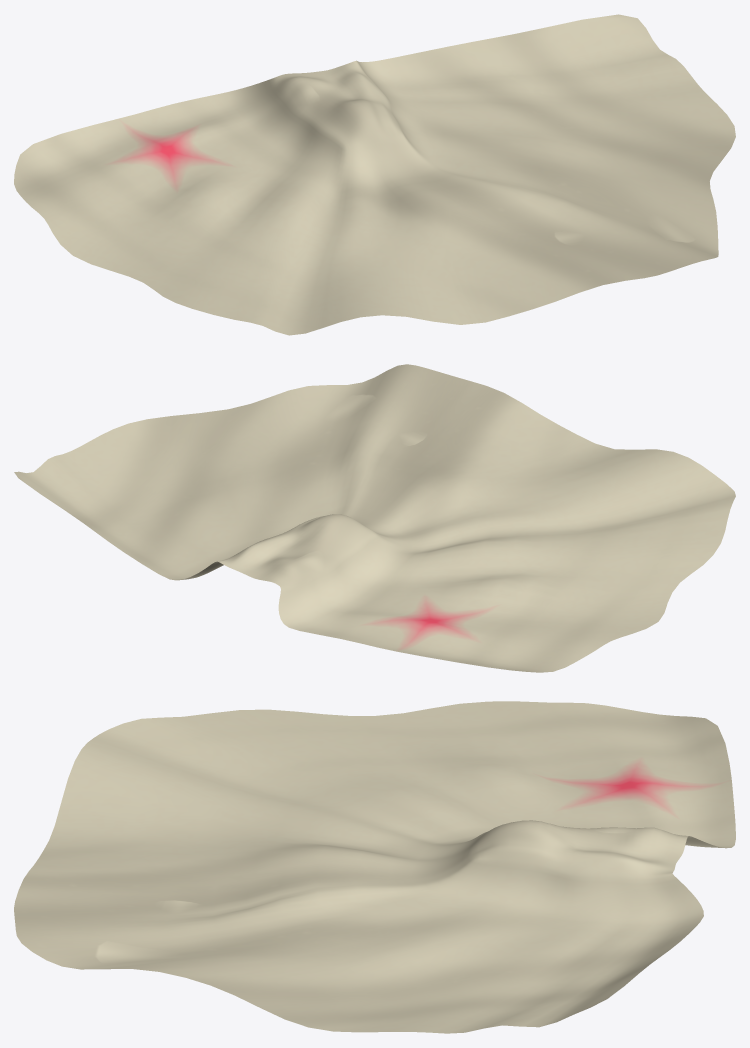
The model's file is ground_sand.fbx.
3 renders of one model, top to bottom at view 1: azimuth 30°, elevation 25°; view 2: azimuth 150°, elevation 25°; view 3: azimuth 270°, elevation 25°, orthographic. The views are drawn at different scales.
Parts seen in each view (by area): view 1: sand_plane; view 2: sand_plane; view 3: sand_plane.
Part boxes in pixels (box(x1,y1,x2,y2)): sand_plane: box(14, 14, 735, 335); sand_plane: box(14, 364, 735, 672); sand_plane: box(14, 701, 735, 1033).
Size of the model in its own units: 4211 by 353 by 3573.
